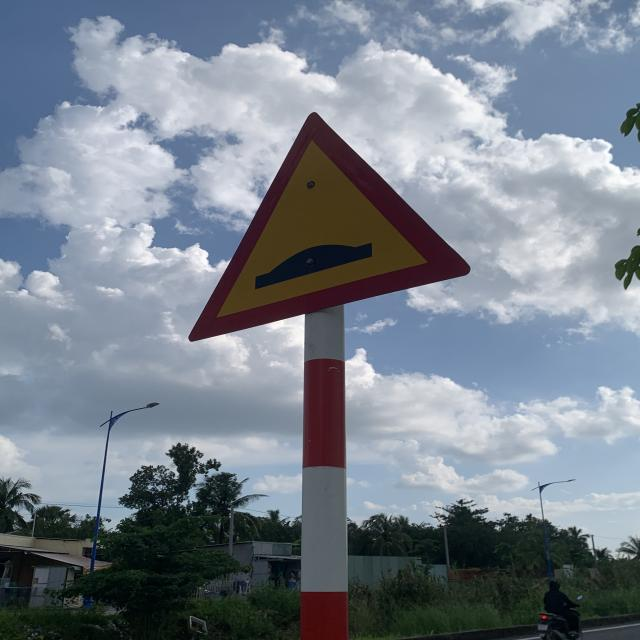Duong_Cong_Ben_Phai: (183, 110, 467, 343)
